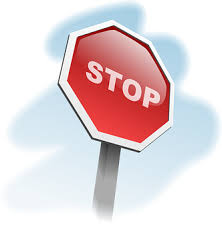SS: (56, 23, 174, 151)
